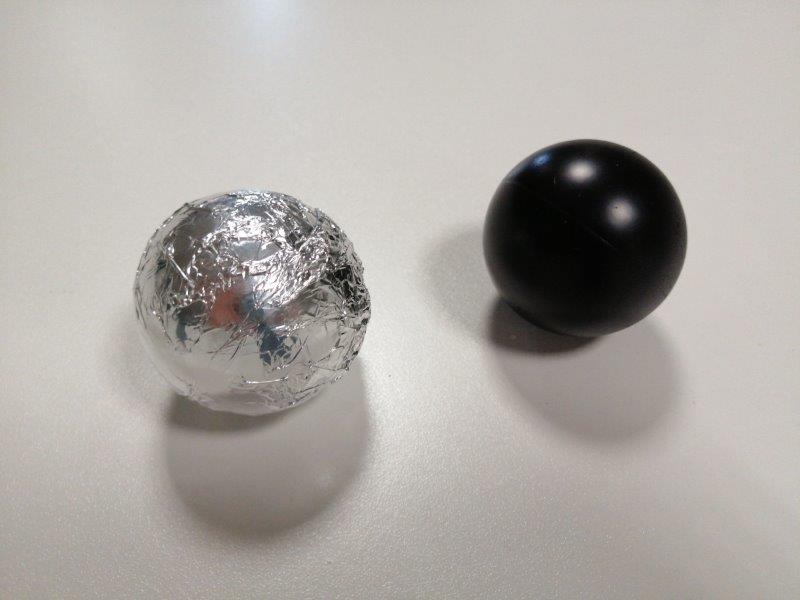bianca: (133, 189, 369, 419)
nera: (483, 139, 688, 342)
